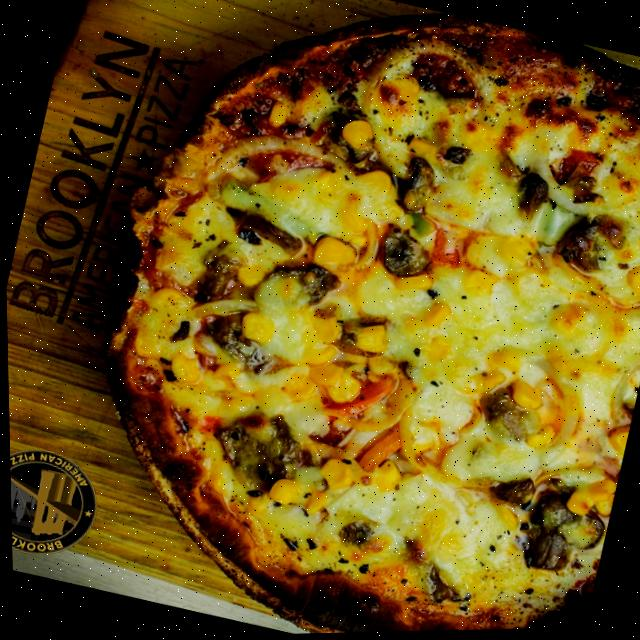mushrooms: (202, 308, 278, 381), (219, 207, 308, 263), (368, 224, 436, 292), (386, 152, 448, 224), (192, 249, 239, 303)
pizza: (35, 0, 640, 639)
